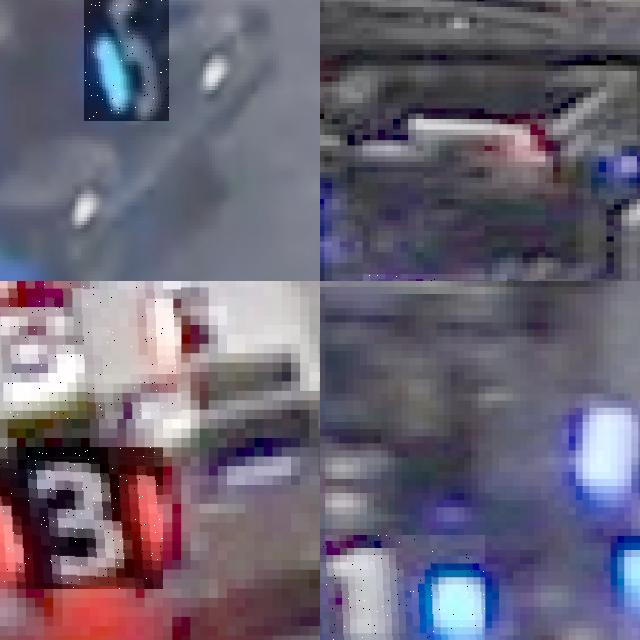B1: (320, 535, 485, 640)
B5: (83, 0, 169, 121)
R3: (0, 281, 181, 419), (0, 447, 163, 588)
